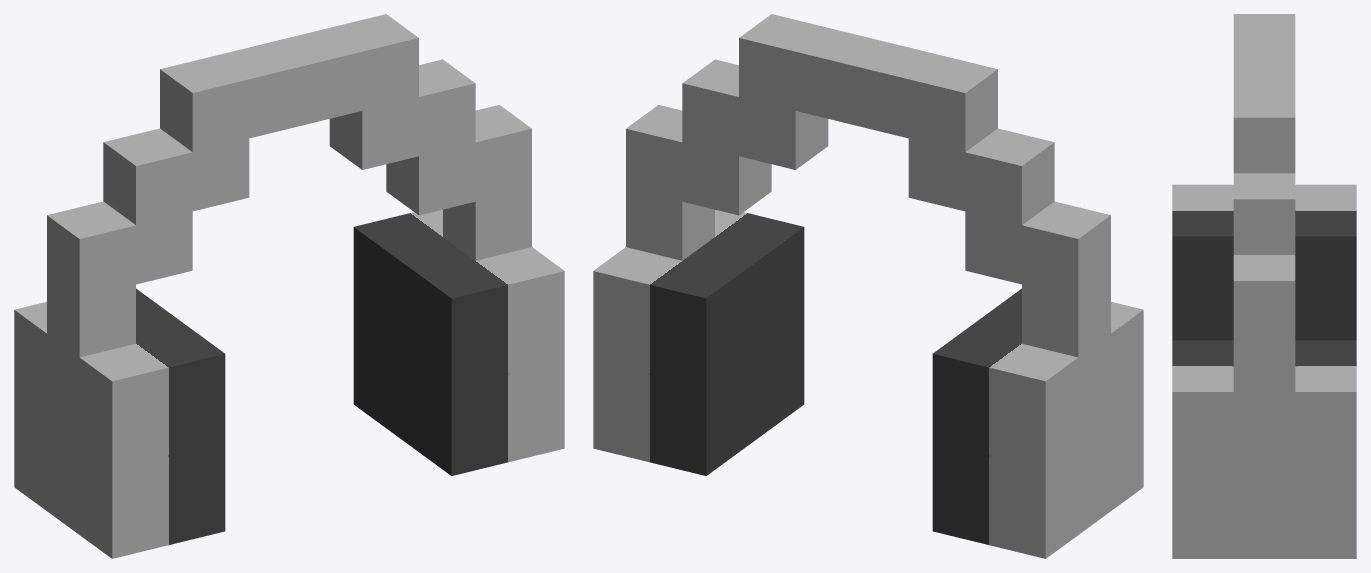
Rendered from headphones.dae.
The picture shows the model from 3 angles, left to right: view 1: azimuth 30°, elevation 25°; view 2: azimuth 150°, elevation 25°; view 3: azimuth 270°, elevation 25°; orthographic projection. The views are drawn at different scales.
Visible parts, largest first — view 1: headphones; view 2: headphones; view 3: headphones.
Boxes of the visible parts, <box> form: headphones: <box>14,14,564,558</box>; headphones: <box>593,14,1143,558</box>; headphones: <box>1172,14,1356,558</box>.
Size of the model in its own units: 0.8 by 0.3 by 0.7.
Materials: 1 (1 with a texture image).
